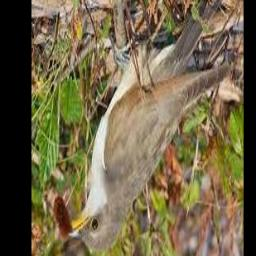Cuckoo: (68, 0, 241, 251)
